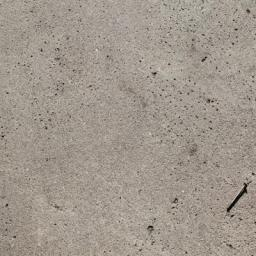FOD: (224, 181, 252, 213)
